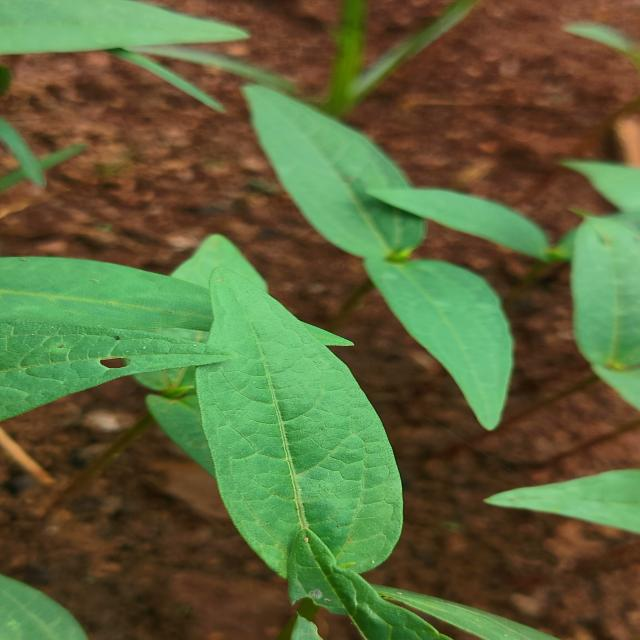Black gram_healthy: (190, 258, 394, 598), (244, 79, 436, 261), (358, 251, 528, 428), (340, 189, 564, 256)
